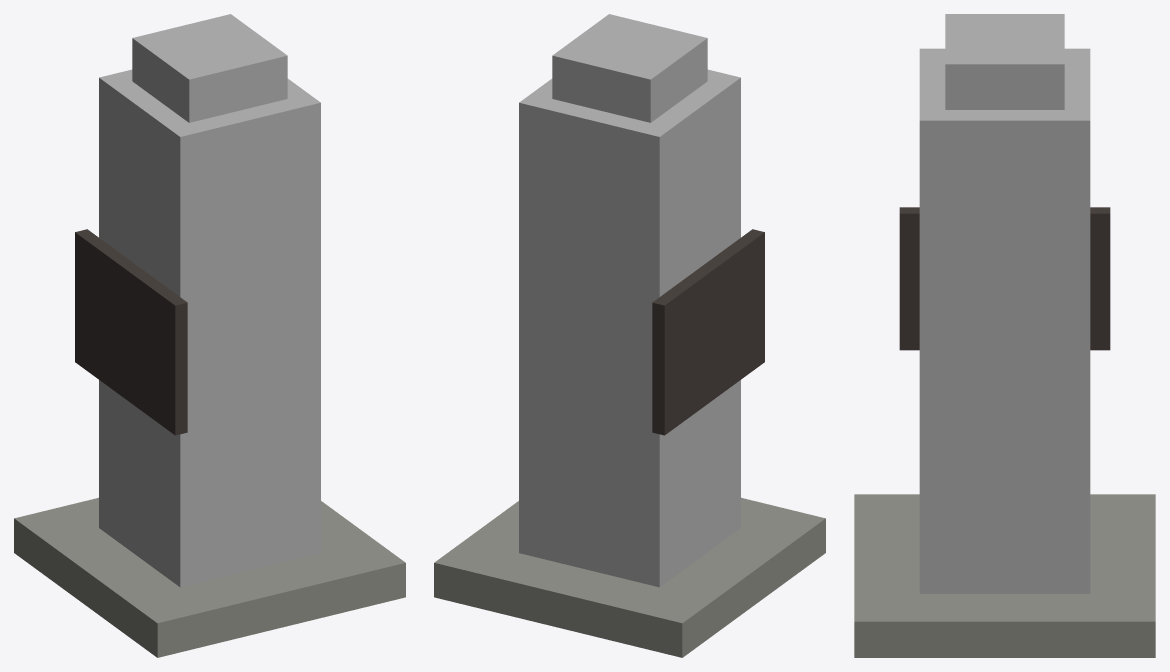
Rendered from SM_poste_km_v4_LOD1.fbx.
The picture shows the model from 3 angles, left to right: view 1: azimuth 30°, elevation 25°; view 2: azimuth 150°, elevation 25°; view 3: azimuth 270°, elevation 25°; orthographic projection. The views are drawn at different scales.
Parts seen in each view (by area): view 1: SM_bloques.poste_km_v4_LOD1; view 2: SM_bloques.poste_km_v4_LOD1; view 3: SM_bloques.poste_km_v4_LOD1.
Part boxes in pixels (x1=…): SM_bloques.poste_km_v4_LOD1: x1=14, y1=14, x2=405, y2=657; SM_bloques.poste_km_v4_LOD1: x1=434, y1=14, x2=825, y2=657; SM_bloques.poste_km_v4_LOD1: x1=854, y1=14, x2=1155, y2=657.
Size of the model in its own units: 0.6 by 1.22 by 0.6.
